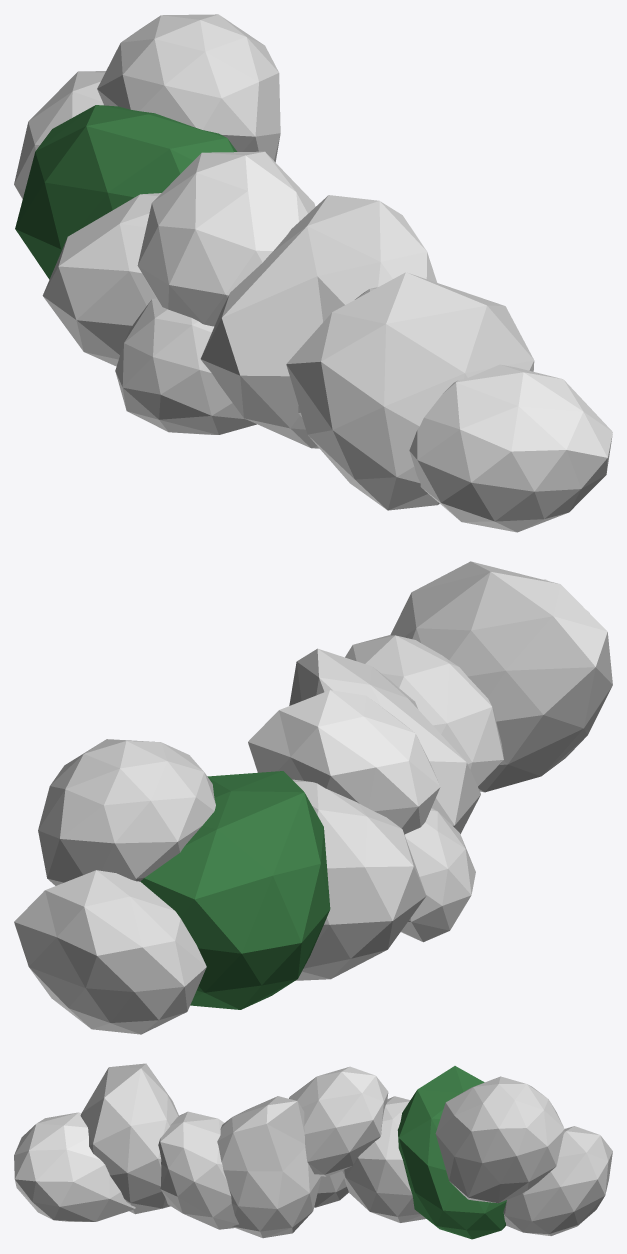
The model's file is Bushes.fbx.
3 views of the same model, one above another, from view 1: azimuth 30°, elevation 25°; view 2: azimuth 150°, elevation 25°; view 3: azimuth 270°, elevation 25° (orthographic). The views are drawn at different scales.
Visible parts, largest first — view 1: Bushes_7, Bushes_6, Bushes_9, Bushes_5, Bushes_3, Bushes, Bushes_1, Bushes_4, Bushes_2; view 2: Bushes, Bushes_7, Bushes_2, Bushes_3, Bushes_5, Bushes_1, Bushes_8, Bushes_6, Bushes_4; view 3: Bushes_3, Bushes_6, Bushes_7, Bushes_9, Bushes, Bushes_5, Bushes_2, Bushes_8, Bushes_1, Bushes_4.
Boxes of the visible parts, <box> form: Bushes_7: <box>286,272,534,510</box>; Bushes_6: <box>200,195,437,448</box>; Bushes_9: <box>409,364,612,532</box>; Bushes_5: <box>137,151,315,326</box>; Bushes_3: <box>97,14,280,162</box>; Bushes: <box>15,105,237,279</box>; Bushes_1: <box>42,193,161,366</box>; Bushes_4: <box>115,297,256,434</box>; Bushes_2: <box>14,71,105,199</box>; Bushes: <box>140,771,330,1009</box>; Bushes_7: <box>390,561,612,792</box>; Bushes_2: <box>14,870,206,1034</box>; Bushes_3: <box>38,739,215,885</box>; Bushes_5: <box>248,690,440,834</box>; Bushes_1: <box>292,779,426,980</box>; Bushes_8: <box>345,635,503,788</box>; Bushes_6: <box>289,648,480,833</box>; Bushes_4: <box>401,807,475,942</box>; Bushes_3: <box>435,1076,564,1203</box>; Bushes_6: <box>217,1096,321,1238</box>; Bushes_7: <box>80,1063,178,1214</box>; Bushes_9: <box>14,1112,135,1221</box>; Bushes: <box>397,1066,506,1239</box>; Bushes_5: <box>289,1066,388,1176</box>; Bushes_2: <box>503,1126,612,1235</box>; Bushes_8: <box>158,1111,238,1229</box>; Bushes_1: <box>342,1096,425,1222</box>; Bushes_4: <box>314,1171,348,1207</box>.
Size of the model in its own units: 3.11 by 9.08 by 2.81.
